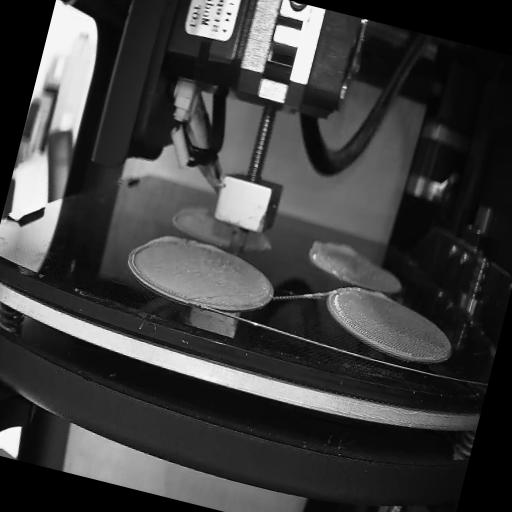over_extrusion: (309, 234, 358, 264), (125, 241, 147, 276), (151, 228, 180, 252), (197, 240, 225, 258), (168, 210, 186, 229), (369, 288, 390, 302), (139, 275, 161, 288)
